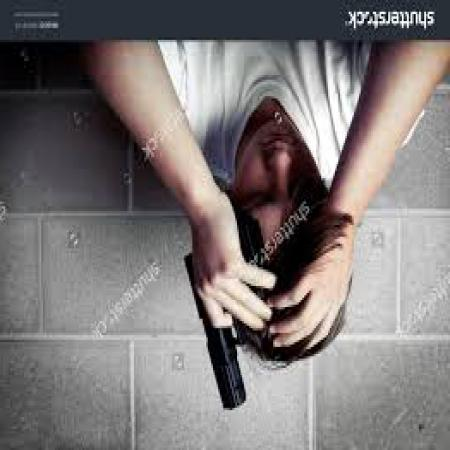Pistol: (178, 218, 280, 422)
